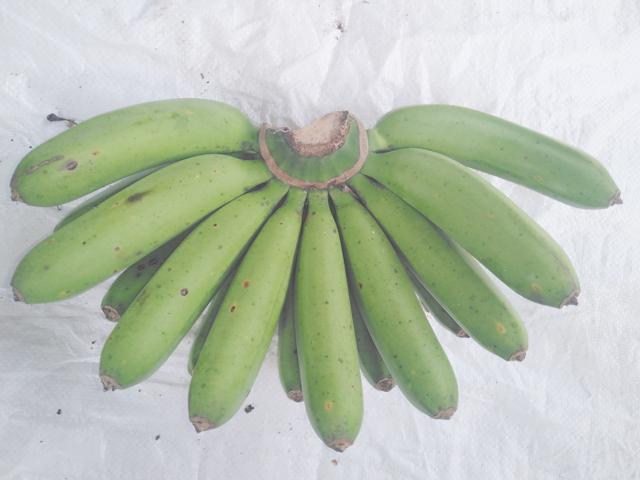unripe: (79, 205, 309, 394), (398, 145, 592, 323), (176, 201, 301, 460), (376, 94, 630, 218), (0, 87, 259, 205), (277, 172, 380, 457)
